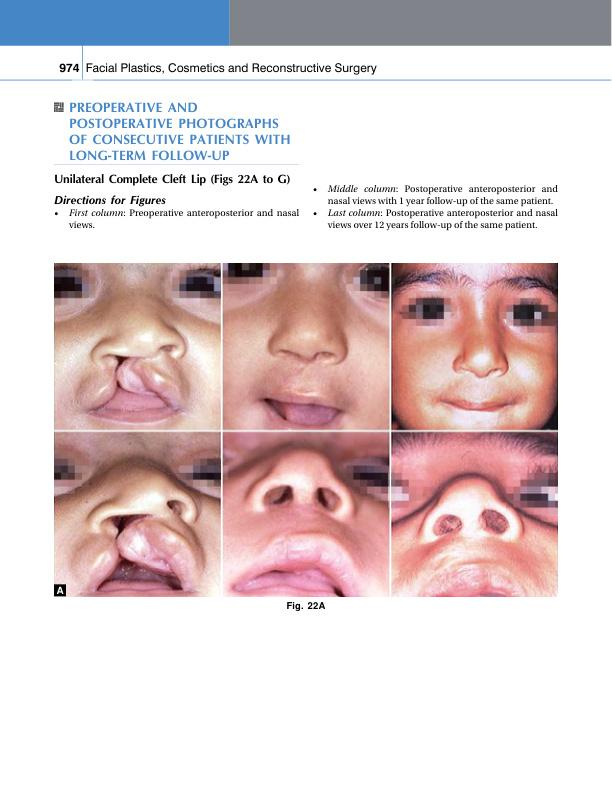caption: (210, 172, 291, 188), (285, 600, 326, 612), (55, 585, 66, 596)
header: (85, 61, 378, 76)
image: (391, 263, 559, 430), (53, 263, 220, 430), (223, 263, 390, 430), (392, 431, 558, 598), (54, 431, 221, 596), (223, 432, 390, 597)
list: (311, 183, 559, 232), (54, 208, 301, 230)
section-heading: (68, 100, 291, 162)
sub-section-heading: (54, 172, 207, 187), (53, 194, 167, 207)
